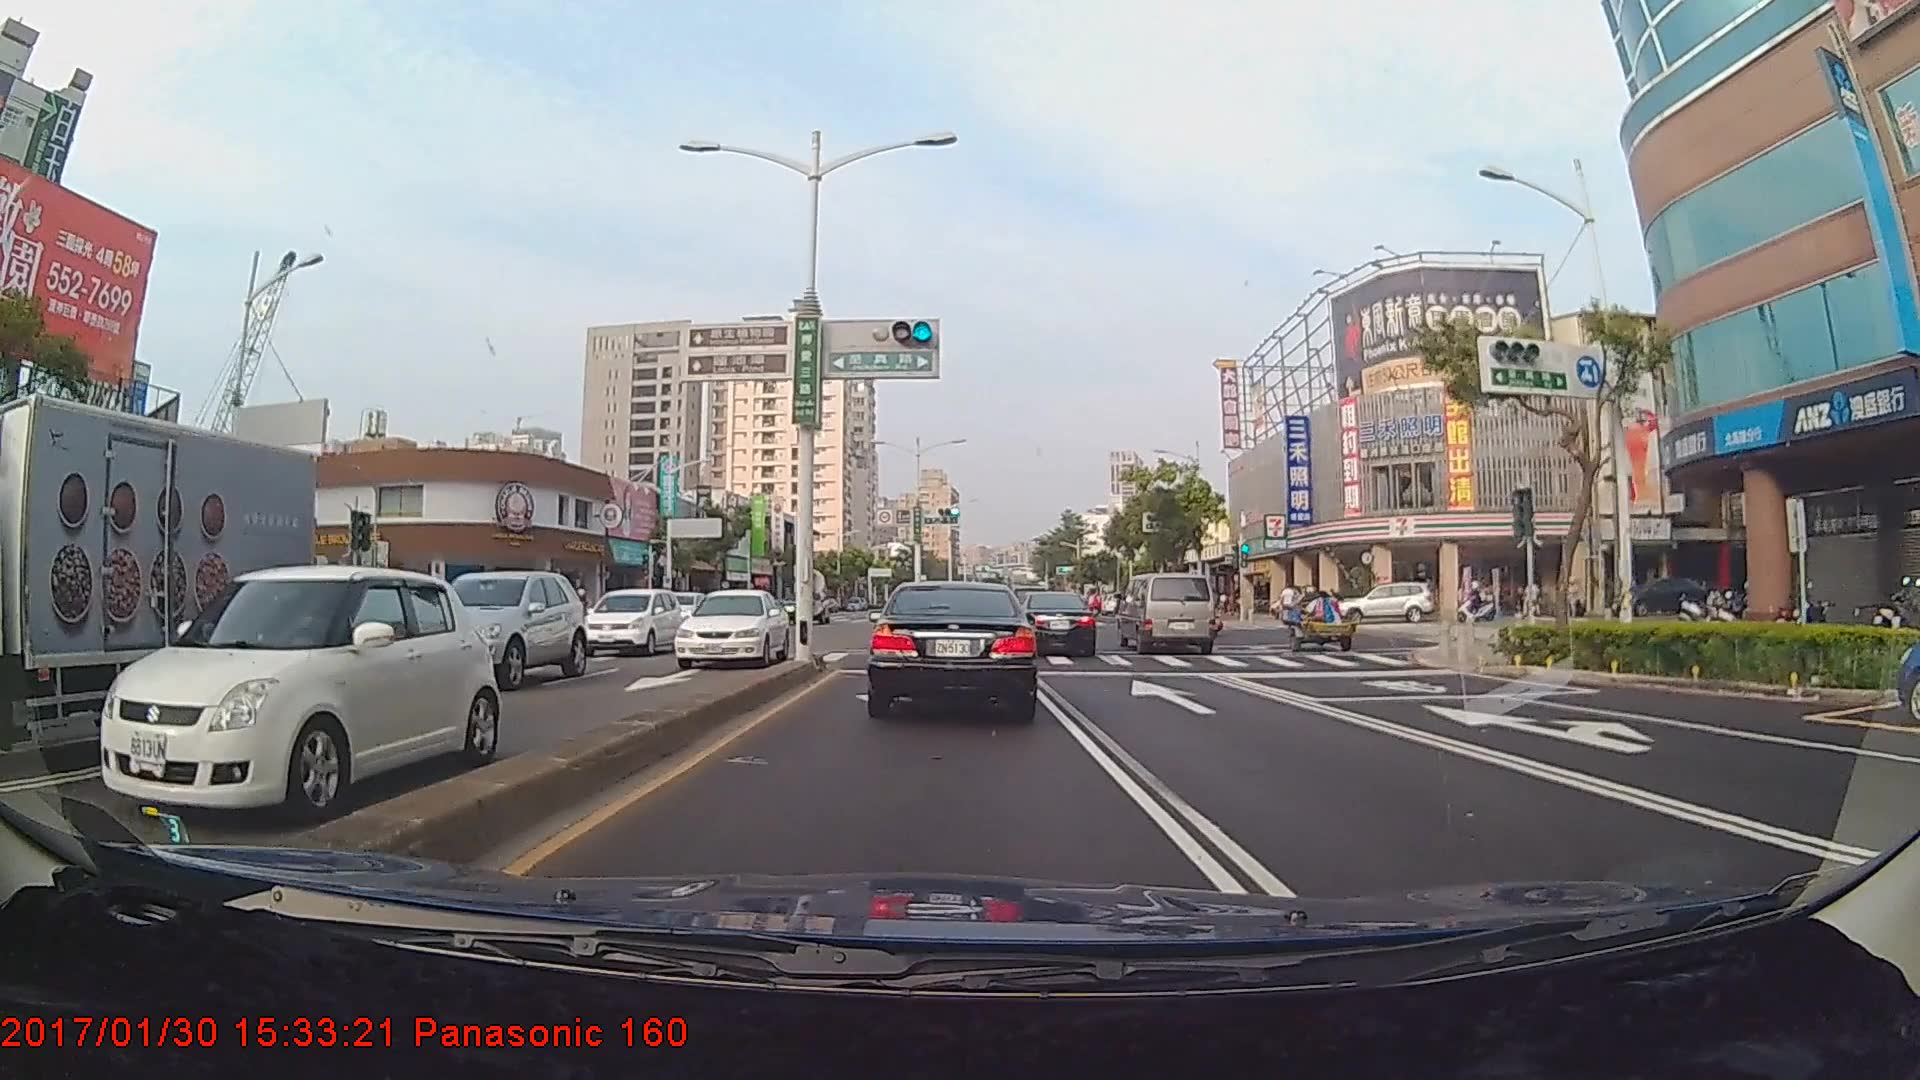vehicle: (73, 555, 465, 835), (0, 398, 307, 750), (869, 576, 1036, 719), (388, 562, 580, 684), (665, 583, 796, 670), (1121, 572, 1220, 655), (572, 583, 680, 657), (1015, 591, 1098, 655), (1886, 585, 1920, 719), (1349, 579, 1437, 626)
